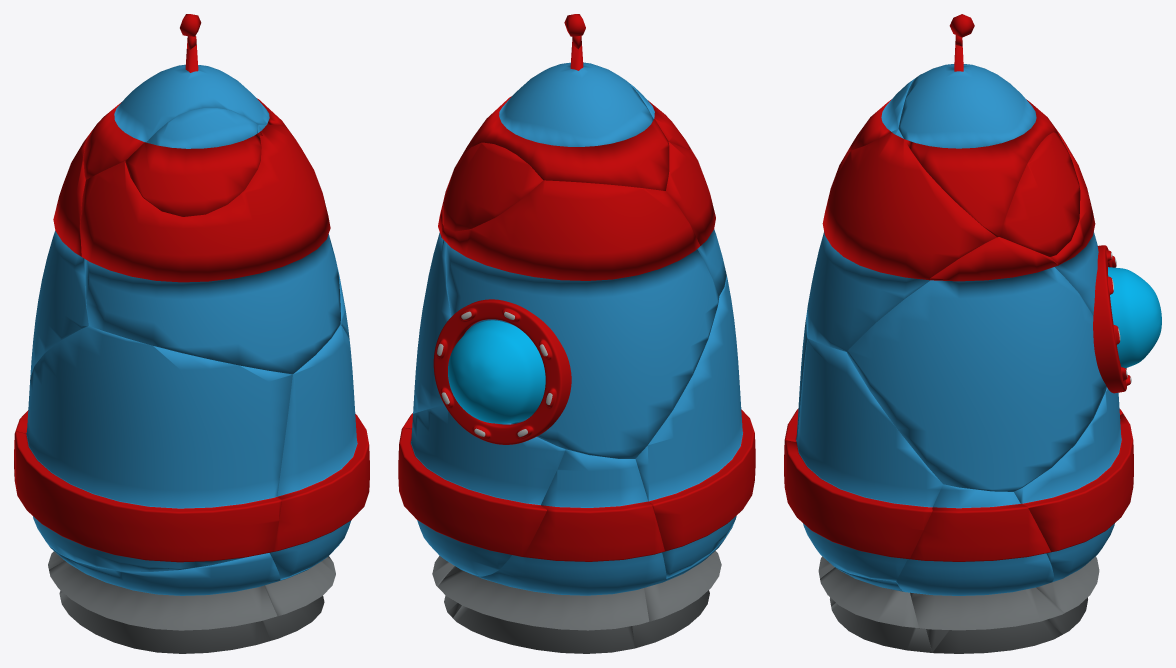
The model's file is Ship Blue Fractured.fbx.
3 renders of one model, left to right at view 1: azimuth 30°, elevation 25°; view 2: azimuth 150°, elevation 25°; view 3: azimuth 270°, elevation 25°, orthographic.
Parts seen in each view (by area): view 1: Blue Ship.001_shard.006, Blue Ship.001_shard, Blue Ship.001_shard.013, Blue Ship.001_shard.005, Blue Ship.001_shard.010, Blue Ship.001_shard.001, Blue Ship.001_shard.009, Blue Ship.001_shard.003; view 2: Blue Ship.001_shard.009, Blue Ship.001_shard.004, Blue Ship.001_shard.002, Blue Ship.001_shard.006, Blue Ship.001_shard.001, Window, Blue Ship.001_shard.012, Blue Ship.001_shard.013, Blue Ship.001_shard, Blue Ship.001_shard.007, Blue Ship.001_shard.010, Blue Ship.001_shard.011; view 3: Blue Ship.001_shard.007, Blue Ship.001_shard.005, Blue Ship.001_shard, Blue Ship.001_shard.011, Blue Ship.001_shard.001, Blue Ship.001_shard.002, Window, Blue Ship.001_shard.012, Blue Ship.001_shard.003, Blue Ship.001_shard.009, Blue Ship.001_shard.004, Blue Ship.001_shard.010 (+1 smaller).
Part boxes in pixels (x1,y1,x2,y2): Blue Ship.001_shard.006: (14, 326, 292, 571); Blue Ship.001_shard: (80, 124, 340, 374); Blue Ship.001_shard.013: (49, 546, 280, 653); Blue Ship.001_shard.005: (269, 325, 369, 580); Blue Ship.001_shard.010: (125, 108, 261, 216); Blue Ship.001_shard.001: (83, 45, 286, 179); Blue Ship.001_shard.009: (30, 132, 90, 377); Blue Ship.001_shard.003: (262, 545, 338, 640); Blue Ship.001_shard.009: (442, 180, 719, 458); Blue Ship.001_shard.004: (438, 449, 666, 653); Blue Ship.001_shard.002: (398, 404, 565, 576); Blue Ship.001_shard.006: (635, 276, 755, 578); Blue Ship.001_shard.001: (459, 44, 669, 190); Window: (433, 299, 571, 444); Blue Ship.001_shard.012: (442, 142, 543, 231); Blue Ship.001_shard.013: (632, 523, 733, 648); Blue Ship.001_shard: (666, 141, 726, 295); Blue Ship.001_shard.007: (413, 185, 451, 413); Blue Ship.001_shard.010: (623, 78, 690, 149); Blue Ship.001_shard.011: (402, 413, 461, 617); Blue Ship.001_shard.007: (846, 237, 1106, 491); Blue Ship.001_shard.005: (784, 338, 942, 581); Blue Ship.001_shard: (806, 129, 996, 351); Blue Ship.001_shard.011: (896, 484, 1064, 653); Blue Ship.001_shard.001: (898, 45, 1058, 237); Blue Ship.001_shard.002: (1014, 387, 1133, 581); Window: (1093, 245, 1161, 393); Blue Ship.001_shard.012: (999, 132, 1080, 256); Blue Ship.001_shard.003: (820, 567, 932, 652); Blue Ship.001_shard.009: (1050, 126, 1098, 315); Blue Ship.001_shard.004: (1036, 409, 1122, 634); Blue Ship.001_shard.010: (848, 78, 915, 150).
Bounding box in the file's own units: 319 × 590 × 345.
